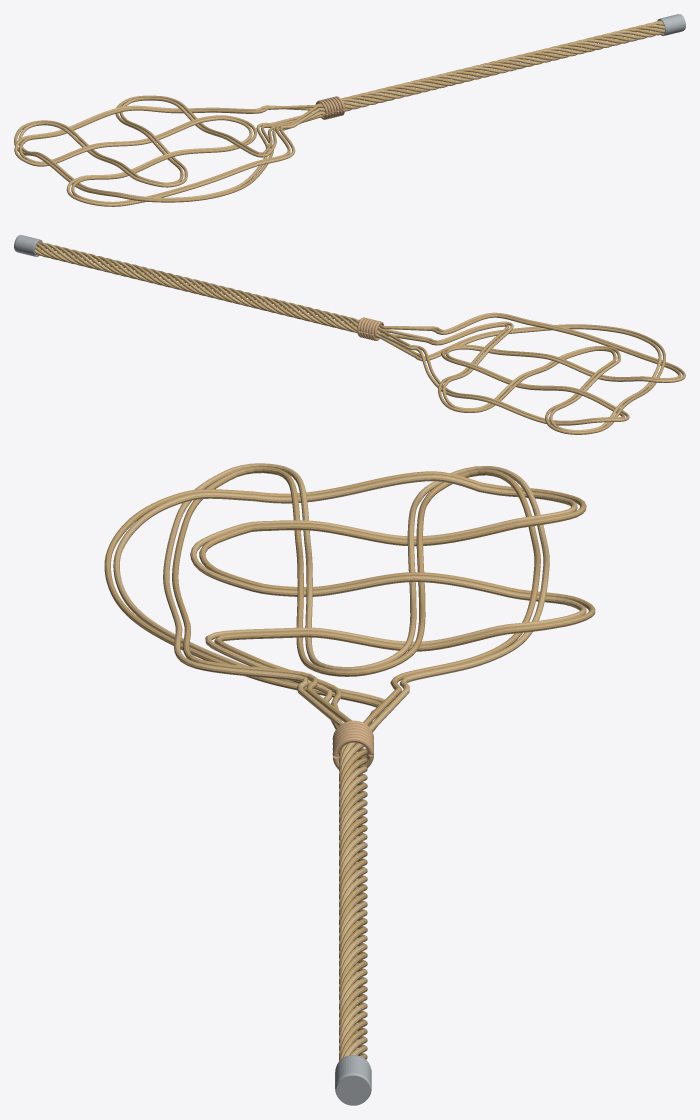
3 views of the same model, one above another, from view 1: azimuth 30°, elevation 25°; view 2: azimuth 150°, elevation 25°; view 3: azimuth 270°, elevation 25° (orthographic). The views are drawn at different scales.
Visible parts, largest first — view 1: Continuous_paired_rattan_reed_02_head_and_handle, Continuous_paired_rattan_reed_01_head_and_handle, Continuous_paired_rattan_reed_04_head_and_handle, Continuous_paired_rattan_reed_03_head_and_handle, Continuous_throat_cane_binding, Short_metal_butt_ferrule_with_blind_bore; view 2: Continuous_paired_rattan_reed_02_head_and_handle, Continuous_paired_rattan_reed_01_head_and_handle, Continuous_paired_rattan_reed_04_head_and_handle, Continuous_paired_rattan_reed_03_head_and_handle, Continuous_throat_cane_binding, Short_metal_butt_ferrule_with_blind_bore; view 3: Continuous_paired_rattan_reed_03_head_and_handle, Continuous_paired_rattan_reed_04_head_and_handle, Continuous_paired_rattan_reed_02_head_and_handle, Continuous_paired_rattan_reed_01_head_and_handle, Short_metal_butt_ferrule_with_blind_bore, Continuous_throat_cane_binding.
Boxes of the visible parts, box(x1,y1,x2,y2) form: Continuous_paired_rattan_reed_02_head_and_handle: box(14, 22, 664, 206); Continuous_paired_rattan_reed_01_head_and_handle: box(19, 20, 662, 203); Continuous_paired_rattan_reed_04_head_and_handle: box(18, 24, 664, 199); Continuous_paired_rattan_reed_03_head_and_handle: box(14, 26, 664, 202); Continuous_throat_cane_binding: box(315, 96, 344, 119); Short_metal_butt_ferrule_with_blind_bore: box(657, 14, 685, 35); Continuous_paired_rattan_reed_02_head_and_handle: box(35, 241, 685, 425); Continuous_paired_rattan_reed_01_head_and_handle: box(35, 242, 681, 422); Continuous_paired_rattan_reed_04_head_and_handle: box(35, 243, 661, 431); Continuous_paired_rattan_reed_03_head_and_handle: box(35, 245, 665, 434); Continuous_throat_cane_binding: box(357, 317, 384, 340); Short_metal_butt_ferrule_with_blind_bore: box(14, 235, 42, 256); Continuous_paired_rattan_reed_03_head_and_handle: box(104, 471, 595, 1060); Continuous_paired_rattan_reed_04_head_and_handle: box(113, 475, 586, 1058); Continuous_paired_rattan_reed_02_head_and_handle: box(163, 463, 549, 1055); Continuous_paired_rattan_reed_01_head_and_handle: box(172, 467, 540, 1059); Short_metal_butt_ferrule_with_blind_bore: box(335, 1055, 371, 1105); Continuous_throat_cane_binding: box(332, 720, 373, 769).
Size of the model in its own units: 0.75 by 0.0218 by 0.25.
